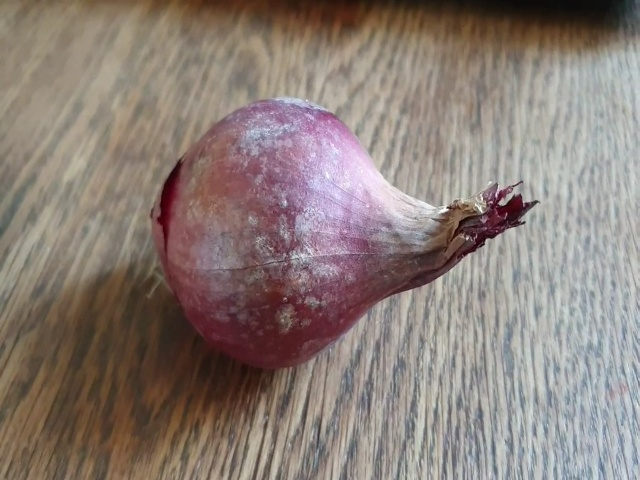red_onion: (137, 91, 543, 381)
